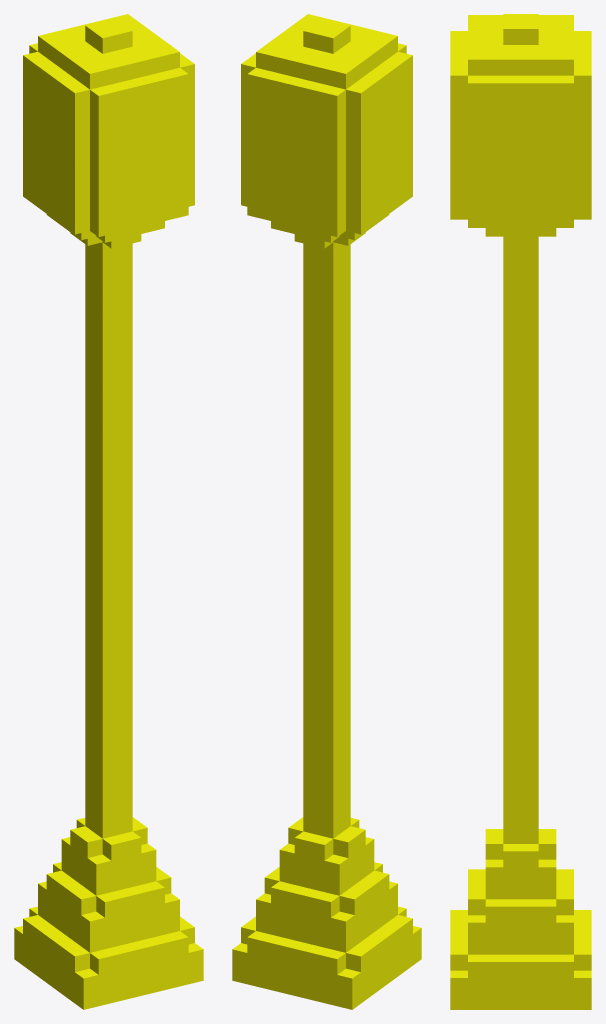
File: voxel-village-lamppost.glb
The picture shows the model from 3 angles, left to right: view 1: azimuth 30°, elevation 25°; view 2: azimuth 150°, elevation 25°; view 3: azimuth 270°, elevation 25°; orthographic projection.
Parts seen in each view (by area): view 1: VS_Villagers_Single_Lamppost; view 2: VS_Villagers_Single_Lamppost; view 3: VS_Villagers_Single_Lamppost.
Part boxes in pixels (x1,y1,x2,y2): VS_Villagers_Single_Lamppost: (14, 14, 203, 1009); VS_Villagers_Single_Lamppost: (232, 14, 421, 1009); VS_Villagers_Single_Lamppost: (450, 14, 591, 1009).
Size of the model in its own units: 0.7998 by 6 by 0.7998.
